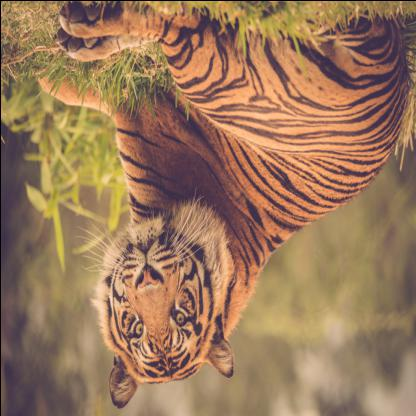tiger: (93, 214, 239, 404)
